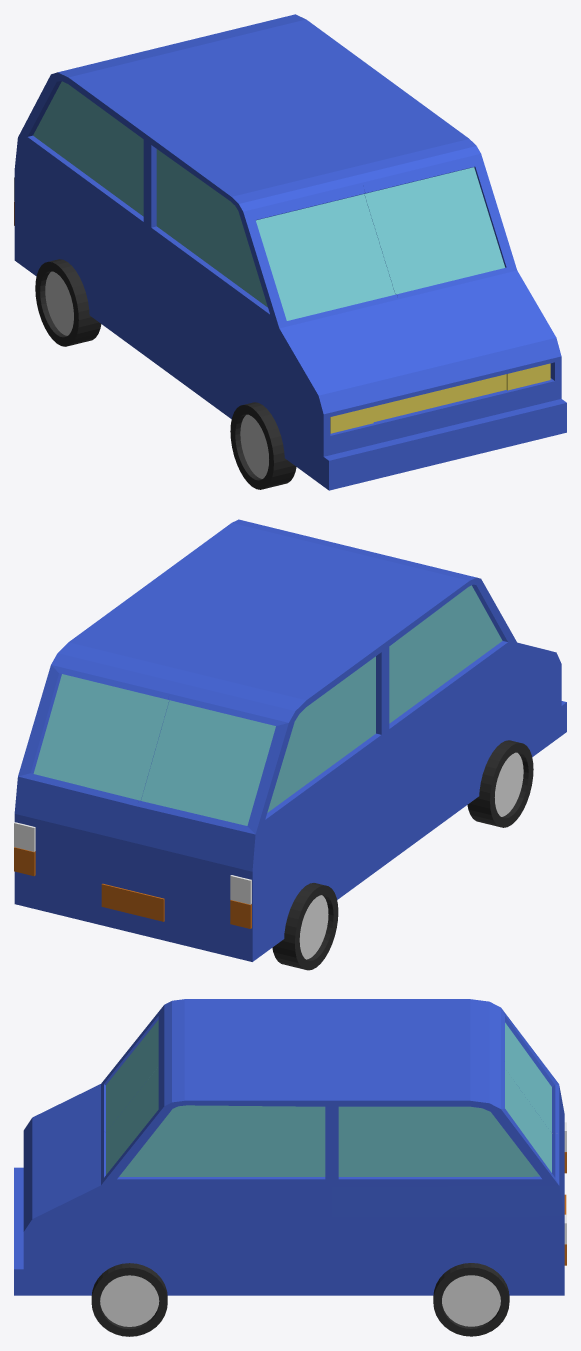
Rendered from car_blue.glb.
The picture shows the model from 3 angles, top to bottom: view 1: azimuth 30°, elevation 25°; view 2: azimuth 150°, elevation 25°; view 3: azimuth 270°, elevation 25°; orthographic projection. The views are drawn at different scales.
Parts seen in each view (by area): view 1: Car.024; view 2: Car.024; view 3: Car.024.
Boxes of the visible parts, <box> form: Car.024: <box>14,14,566,490</box>; Car.024: <box>14,519,566,970</box>; Car.024: <box>14,999,566,1336</box>.
Bounding box in the file's own units: 2.34 × 2.27 × 4.92.
